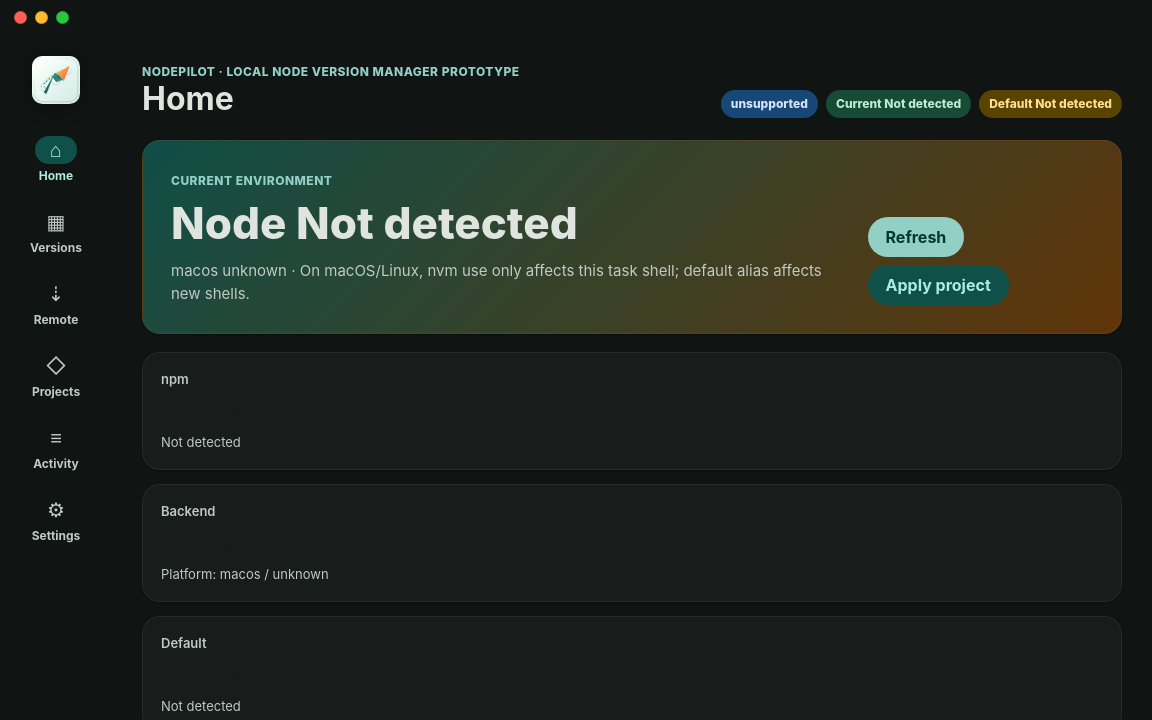
Test: App › renders missing default-packages state in Settings
The width and height of the screenshot is (1152, 720).
Click the button with aria-label "Open Settings" at (56, 520), box [14,488,98,552]
(page scrolled)
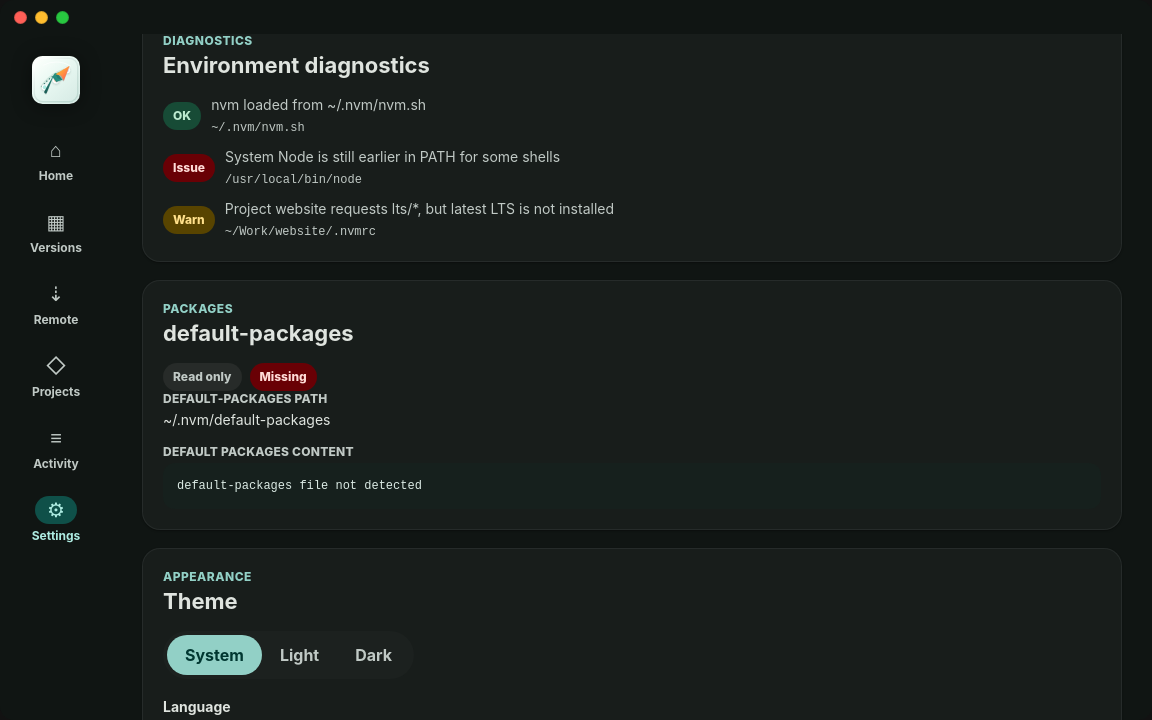
Now the text "default-packages file not detected" is shown, box [163,463,1101,509]
Now the text "Missing" is shown, box [250,363,317,391]
